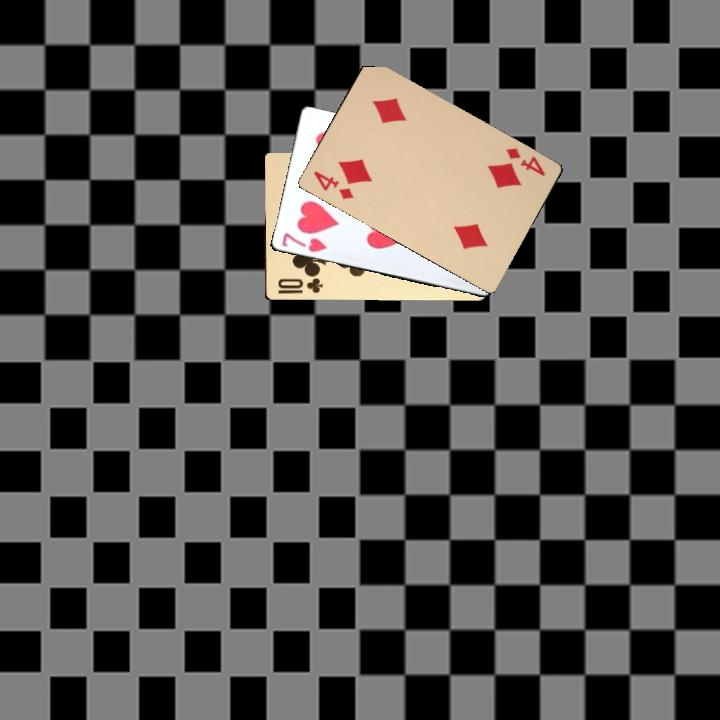10c: (273, 270, 325, 296)
4d: (502, 143, 548, 179), (309, 167, 356, 202)
7h: (278, 229, 330, 255)
